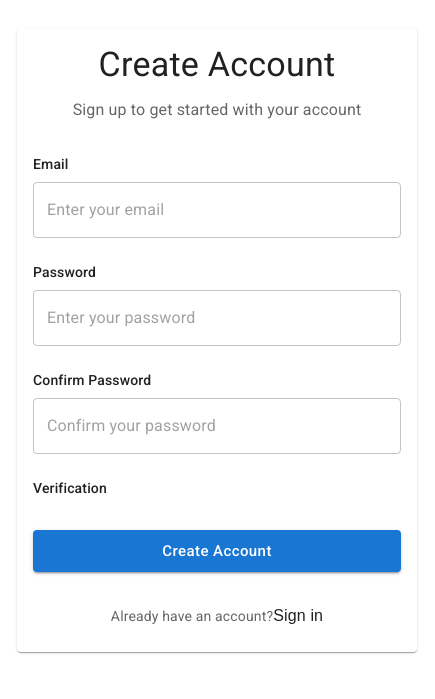
Test: SignUpForm › requires Turnstile verification when enabled
Type "robot@example.com" into the field with test id "signup-email-input" at (217, 210), box [33,182,401,238]
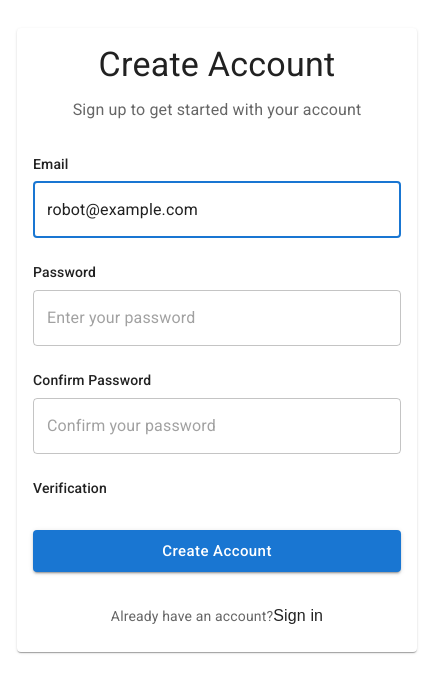
Type "password123!" into the password field with test id "signup-password-input" at (217, 318), box [33,290,401,346]
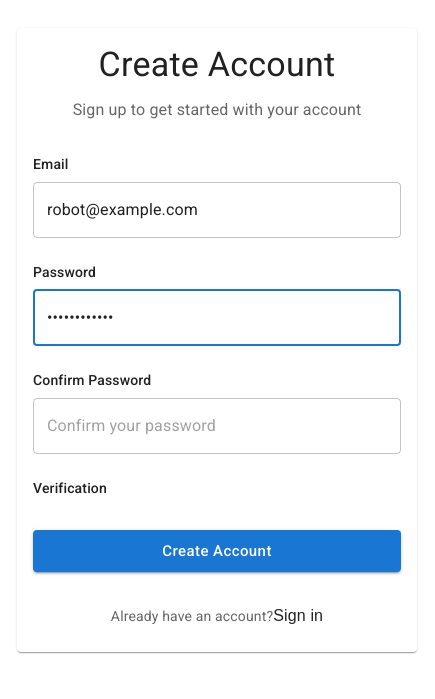
Type "password123!" into the password field with test id "signup-confirm-password-input" at (217, 426), box [33,398,401,454]
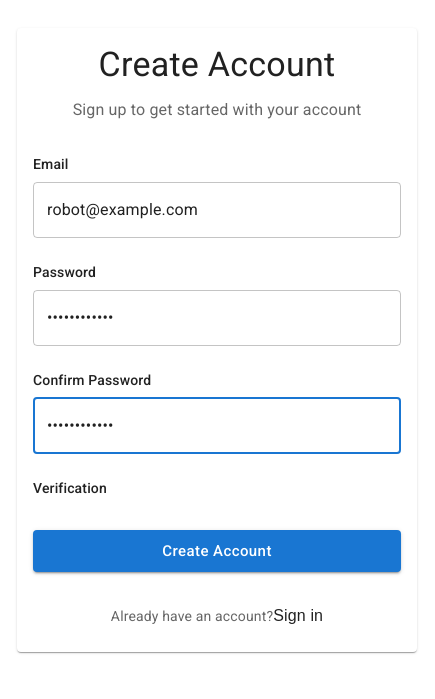
Submit the form with test id "signup-form", box [33,154,401,572]
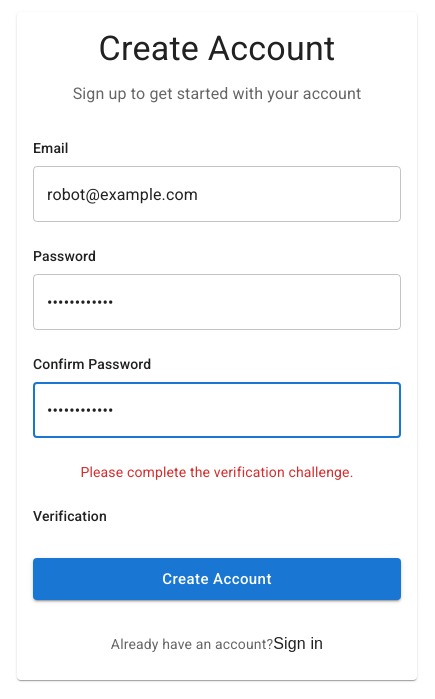
Result: the text "Please complete the verification challenge." is shown at [80,464,354,480]
